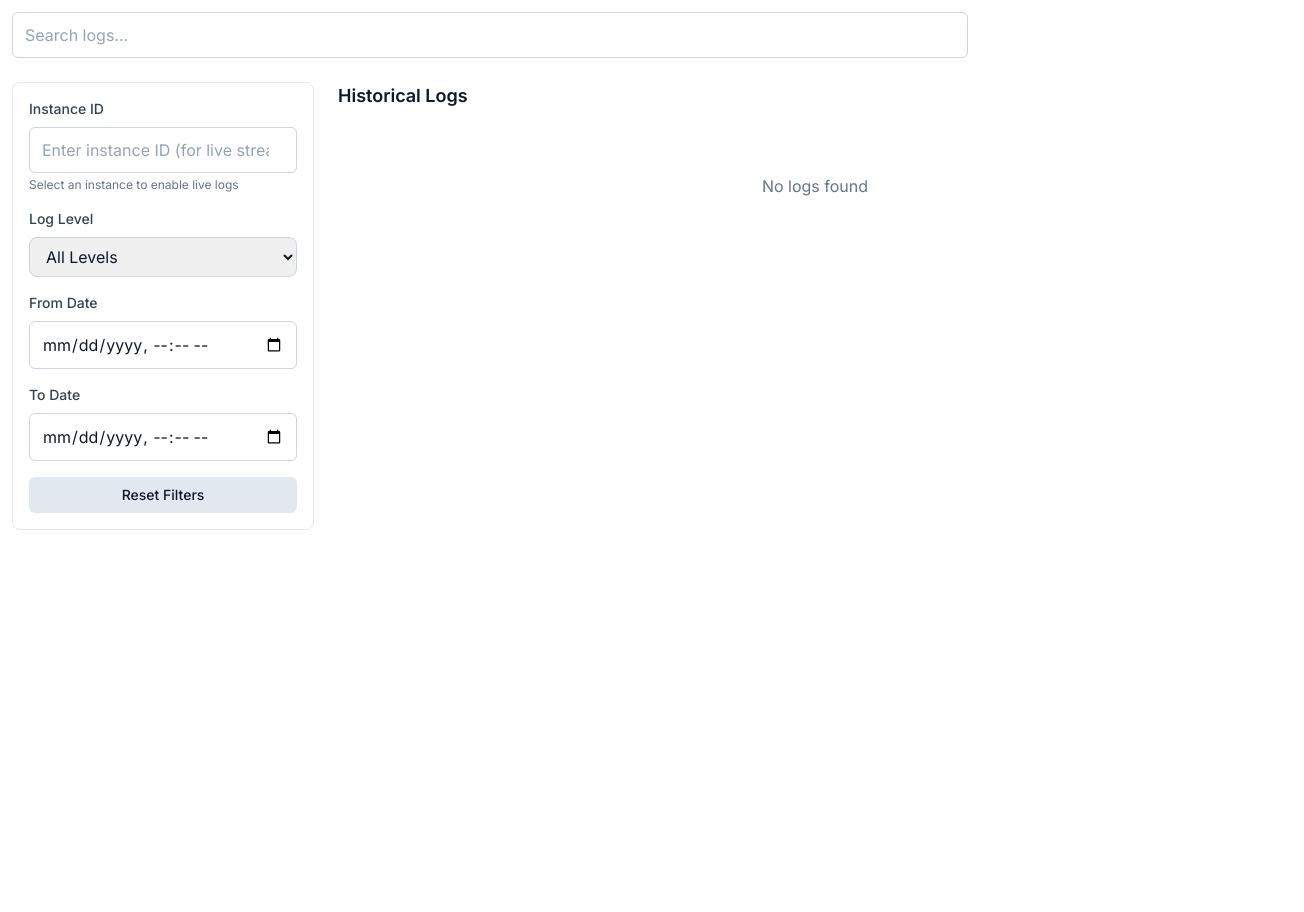
LogsViewer › live stream integration › should show live stream section when instance is selected
This screenshot has width=1304, height=912.
Note: Simulate selecting an instance via the filter
Type "1" into the number field with placeholder "Enter instance ID (for live stream)" at (163, 150), box x1=29 y1=127 x2=297 y2=173
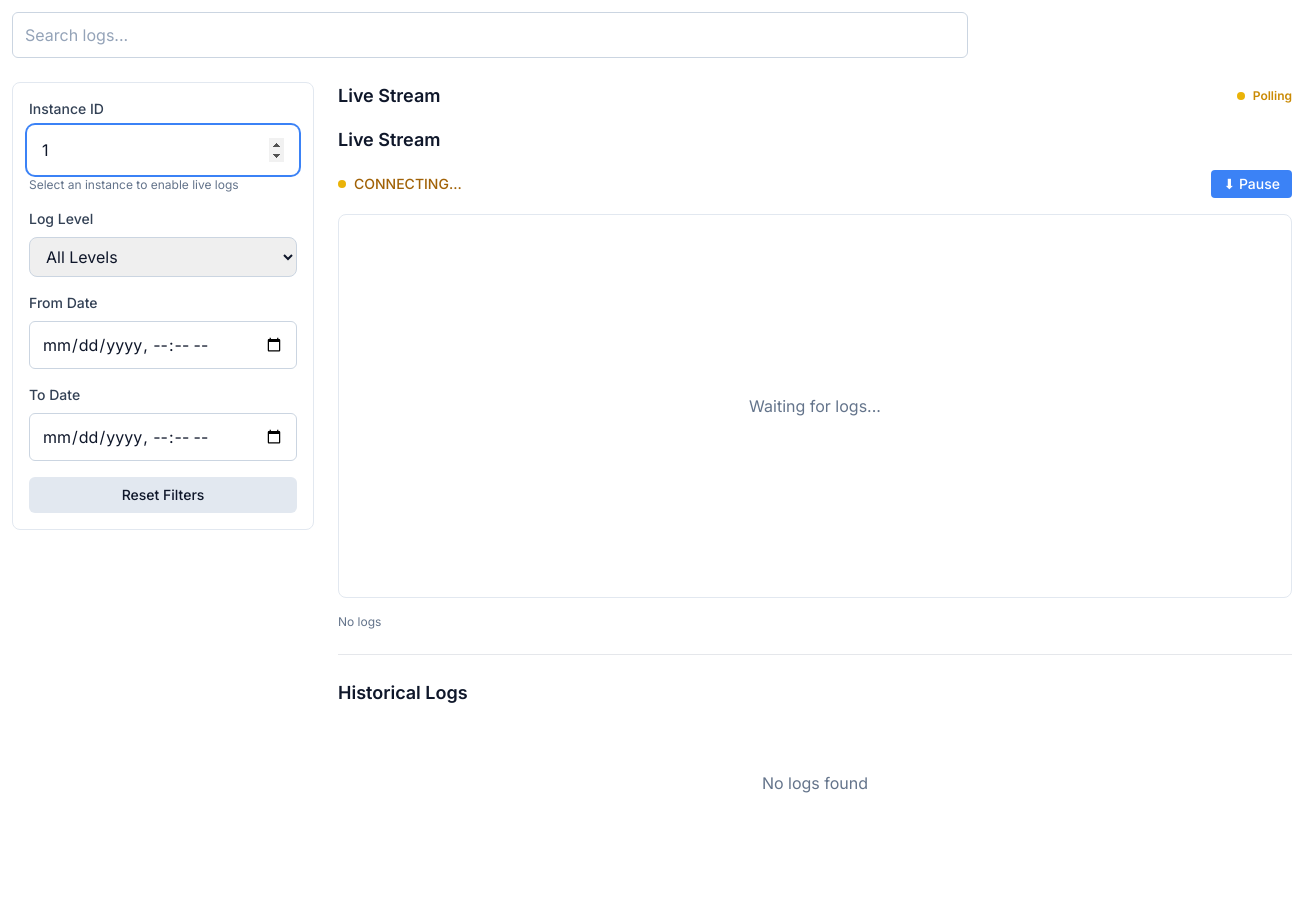
Result: the heading "Live Stream" in the row of "Polling" is shown at x1=338 y1=85 x2=440 y2=106
